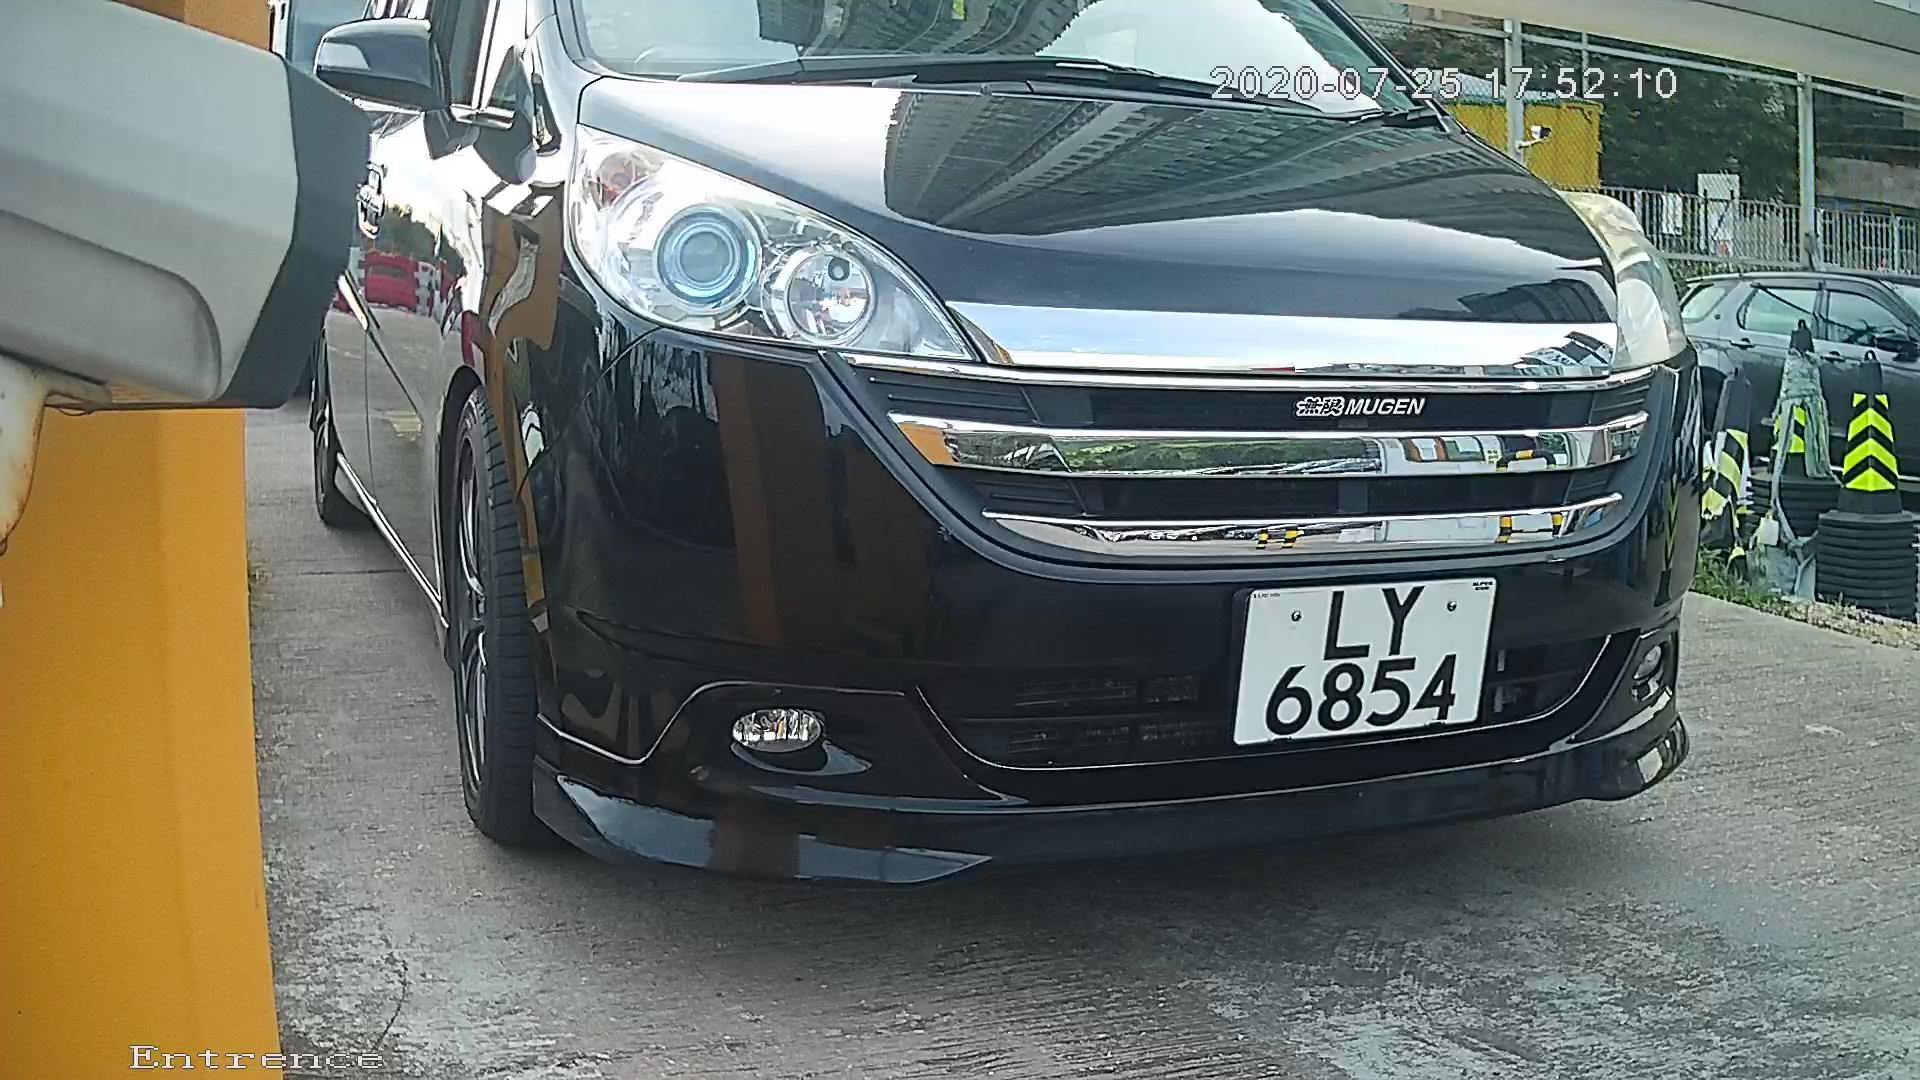Car: (172, 5, 1843, 950)
License Plate: (1209, 555, 1509, 767)
